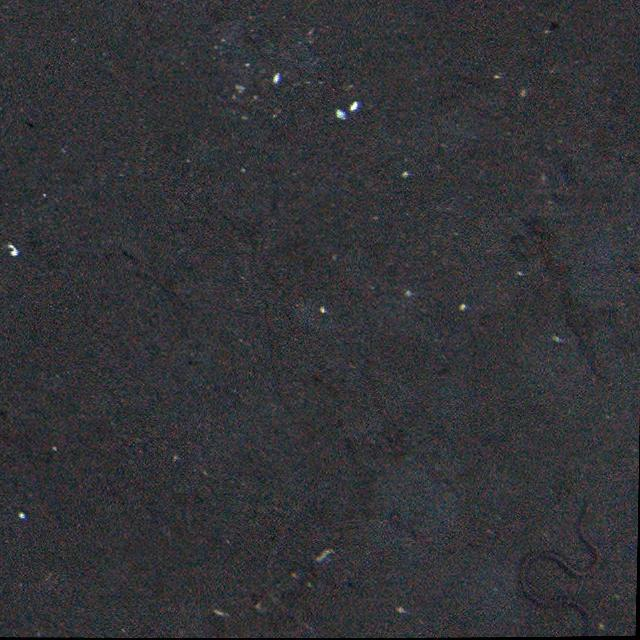eel: (518, 502, 608, 638)
